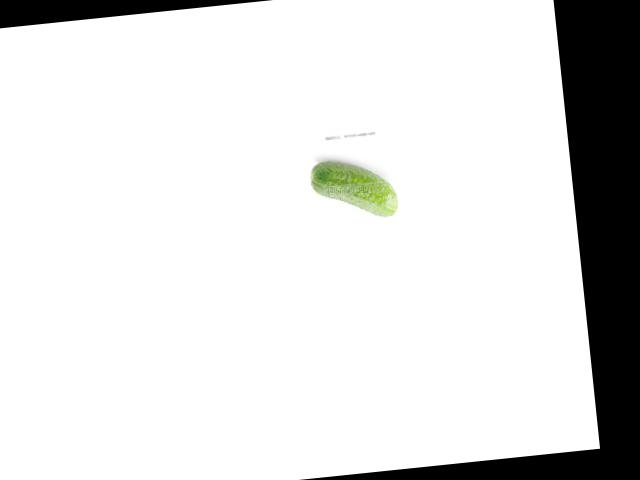cucumber: (308, 154, 398, 224)
